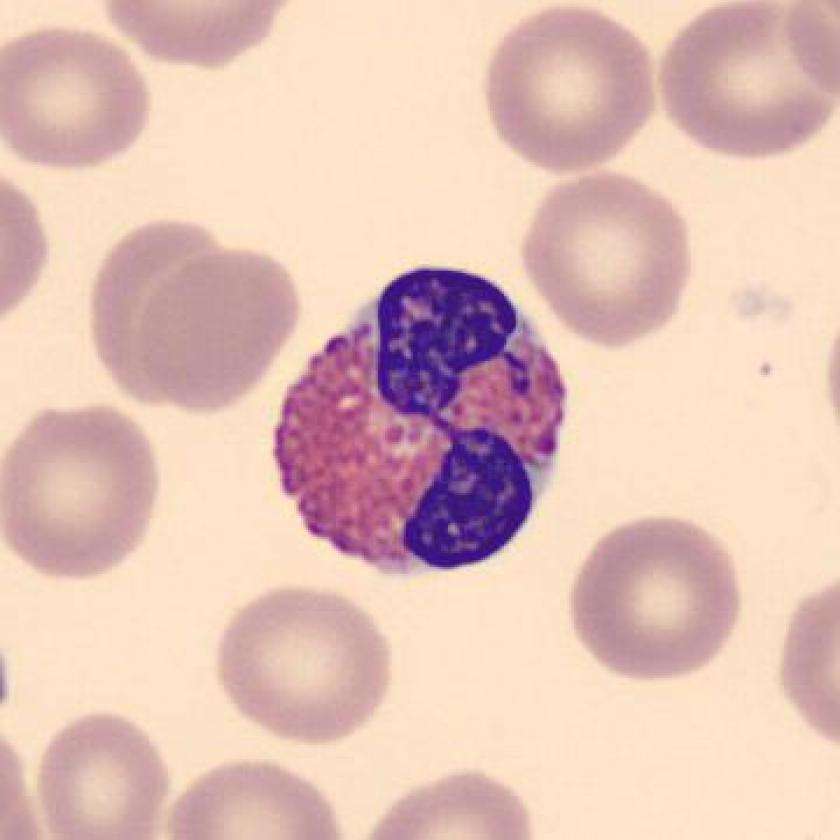eosinophil: (255, 258, 582, 584)
